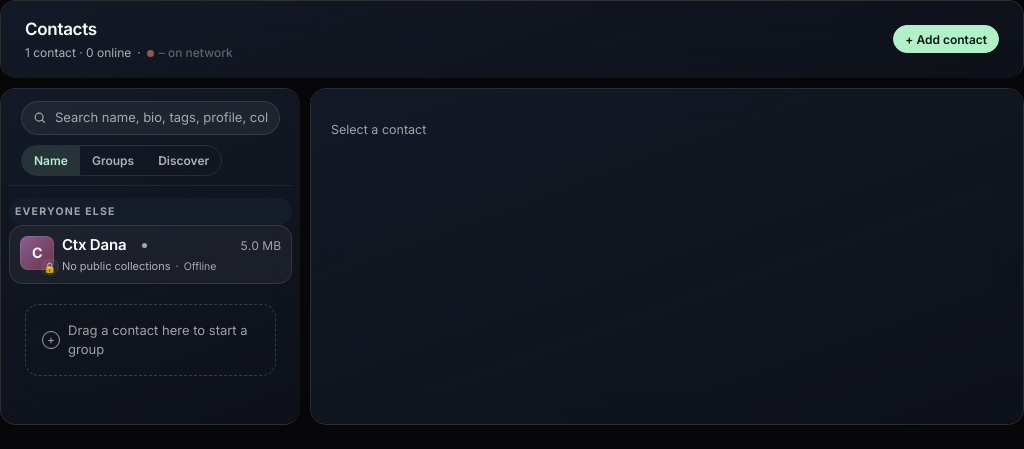
it: QURATOR-381 — Contacts row context menu › a row with no collections shows NO Browse in the context menu
The image size is (1024, 449).
Right-click the option with class "contact-card".
right_click(37, 253)  # box [9,226,292,284]
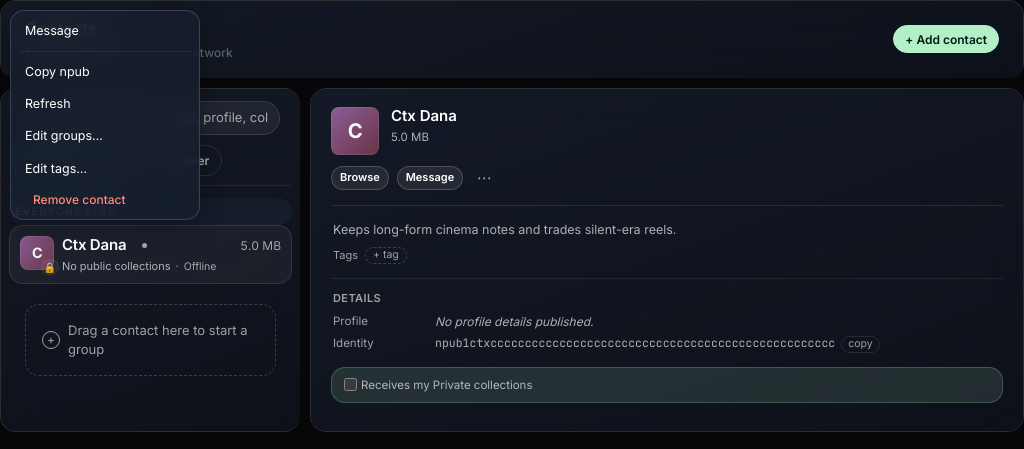
Now the menu with class "overflow-menu" is shown, box [10,10,200,220]
